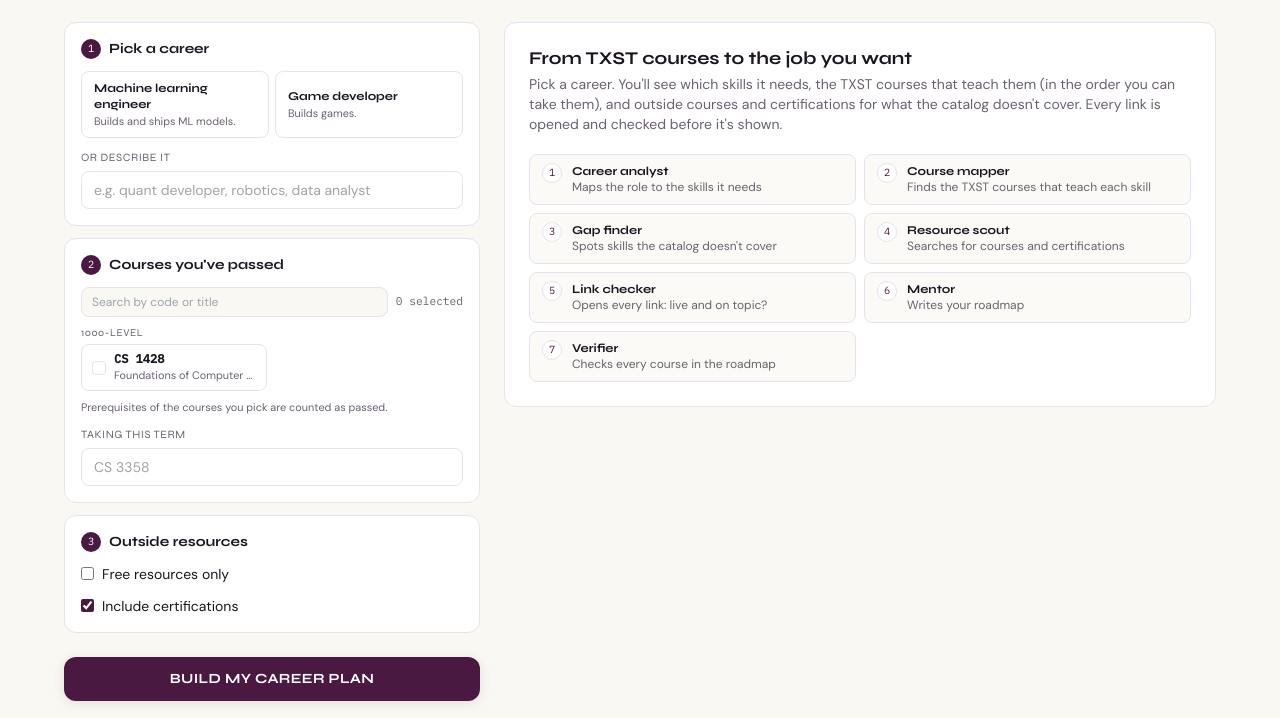
Test: CareerView › runs the pipeline and shows courses, skills and checked resources
The image size is (1280, 718).
Click the radio button labelled "Machine learning engineer Builds and ships ML models.": point(175, 104) left=81, top=71, right=269, bottom=138
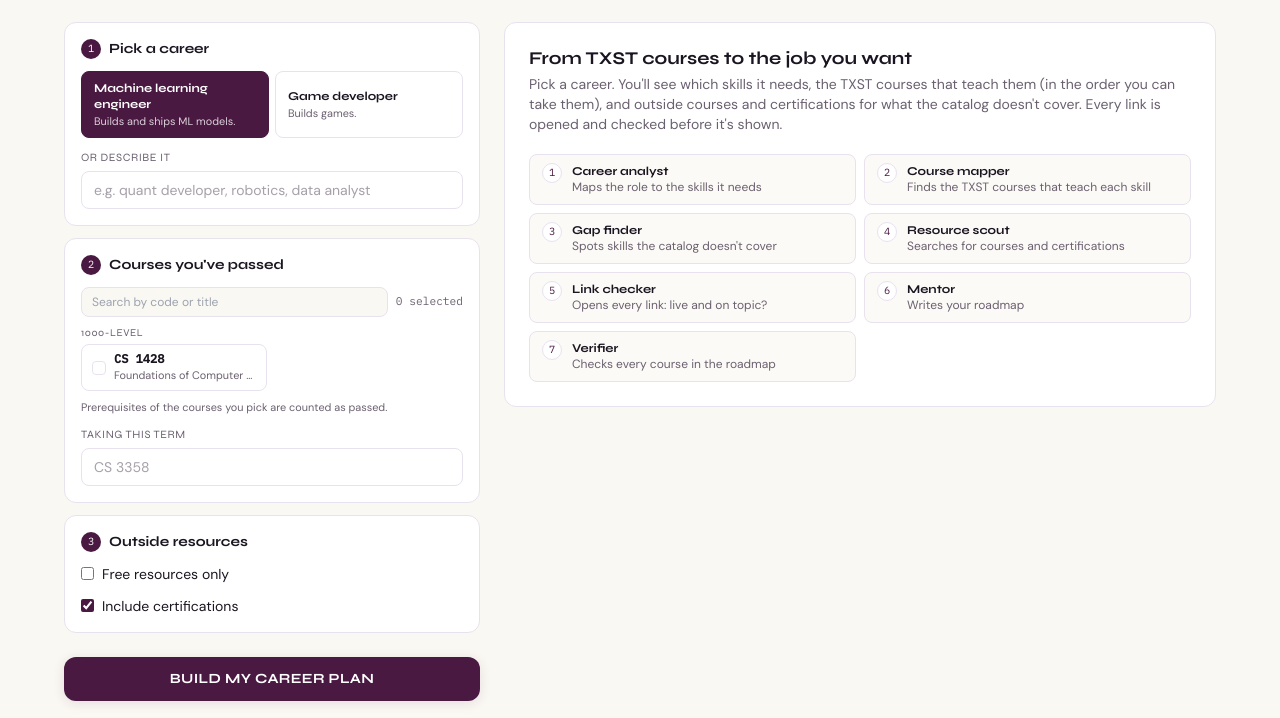
Click the button "CS 1428 Foundations of Computer Science I": point(174, 368) left=81, top=344, right=267, bottom=391
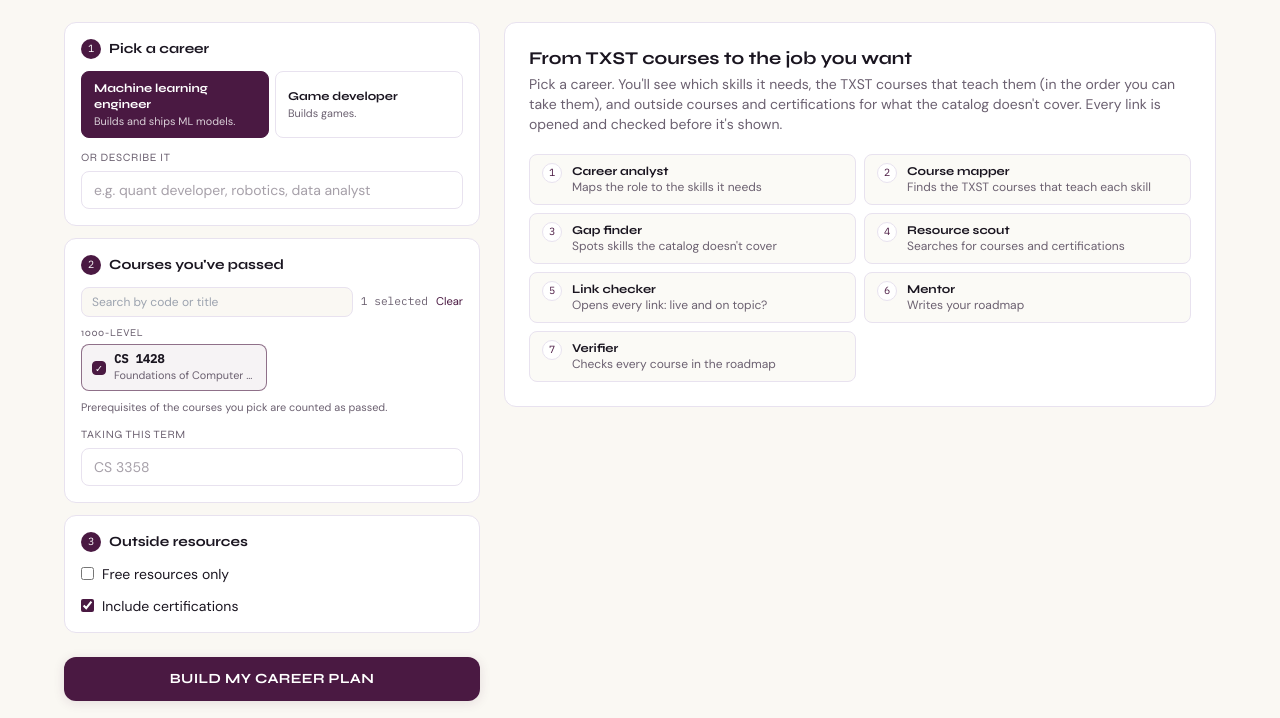
Click the checkbox labelled "Free resources only": point(88, 574) left=81, top=567, right=94, bottom=580
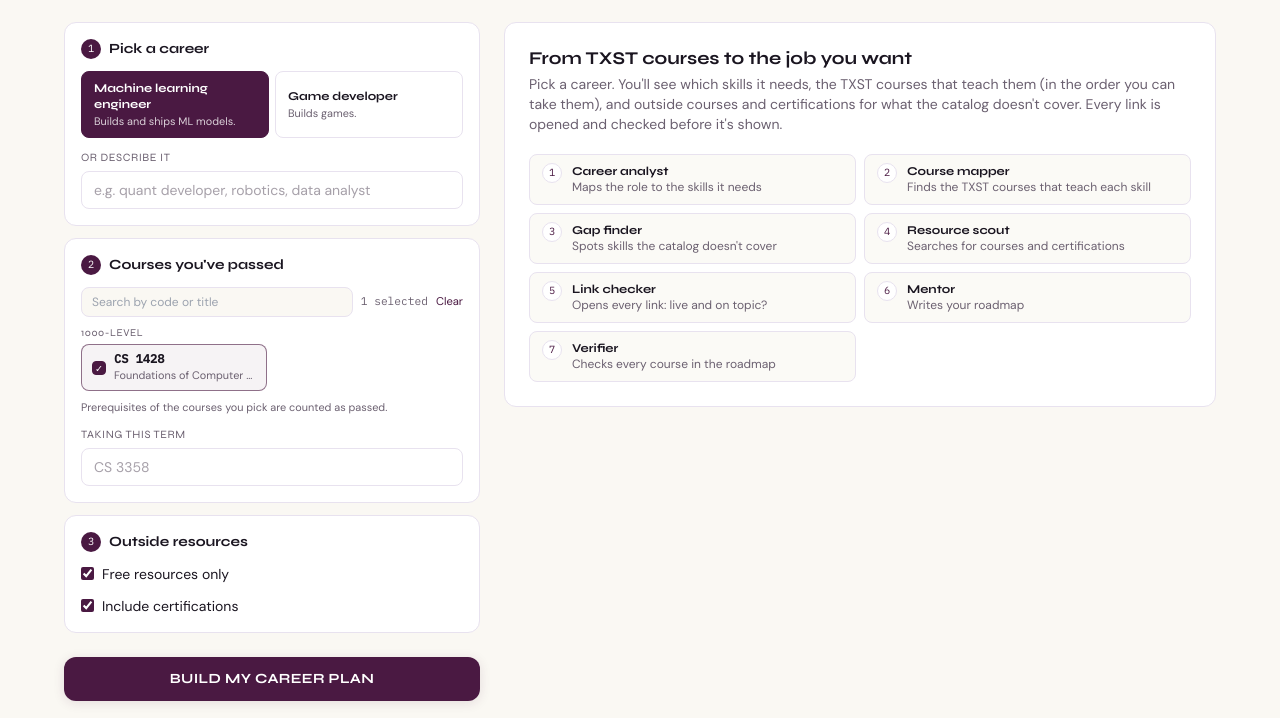
Click the button "Build my career plan": point(272, 679) left=64, top=657, right=480, bottom=701
(page scrolled)
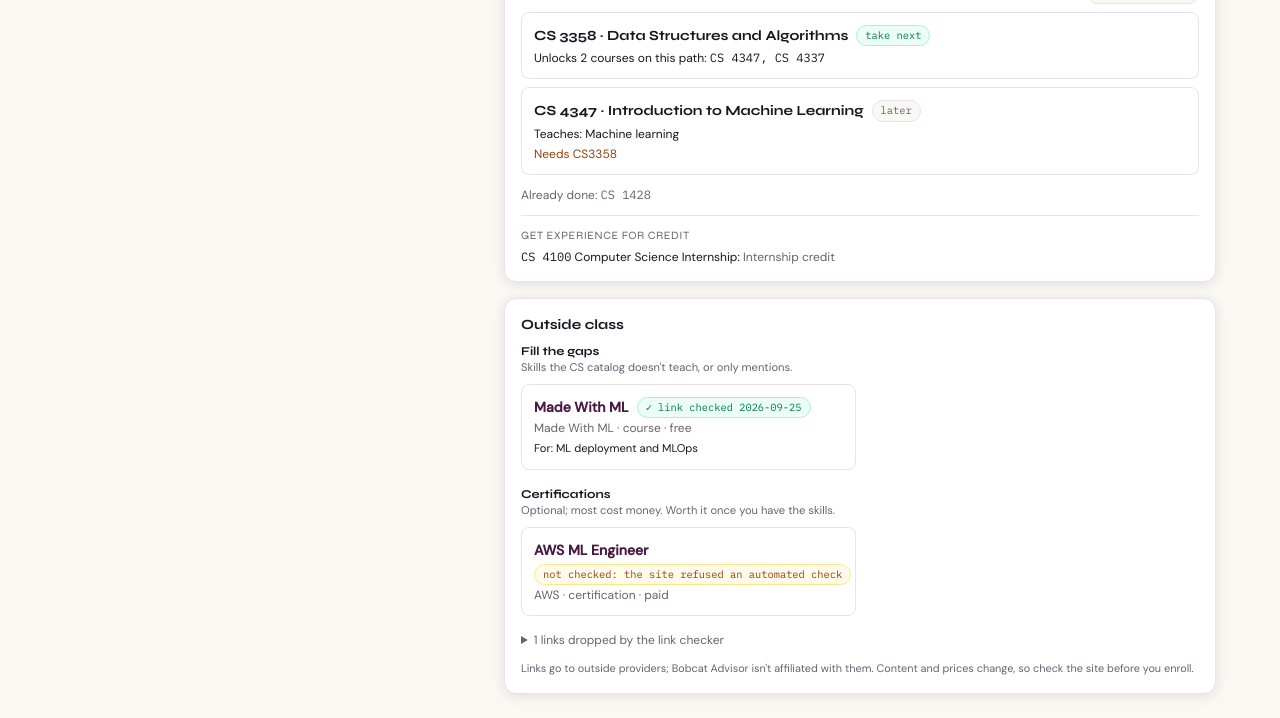
Result: the text "Unlocks 2 courses on this path: CS 4347, CS 4337" is shown at left=534, top=50, right=825, bottom=66
Result: the text "Needs CS3358" is shown at left=534, top=146, right=617, bottom=162
Result: the text "Already done: CS 1428" is shown at left=521, top=187, right=651, bottom=203
